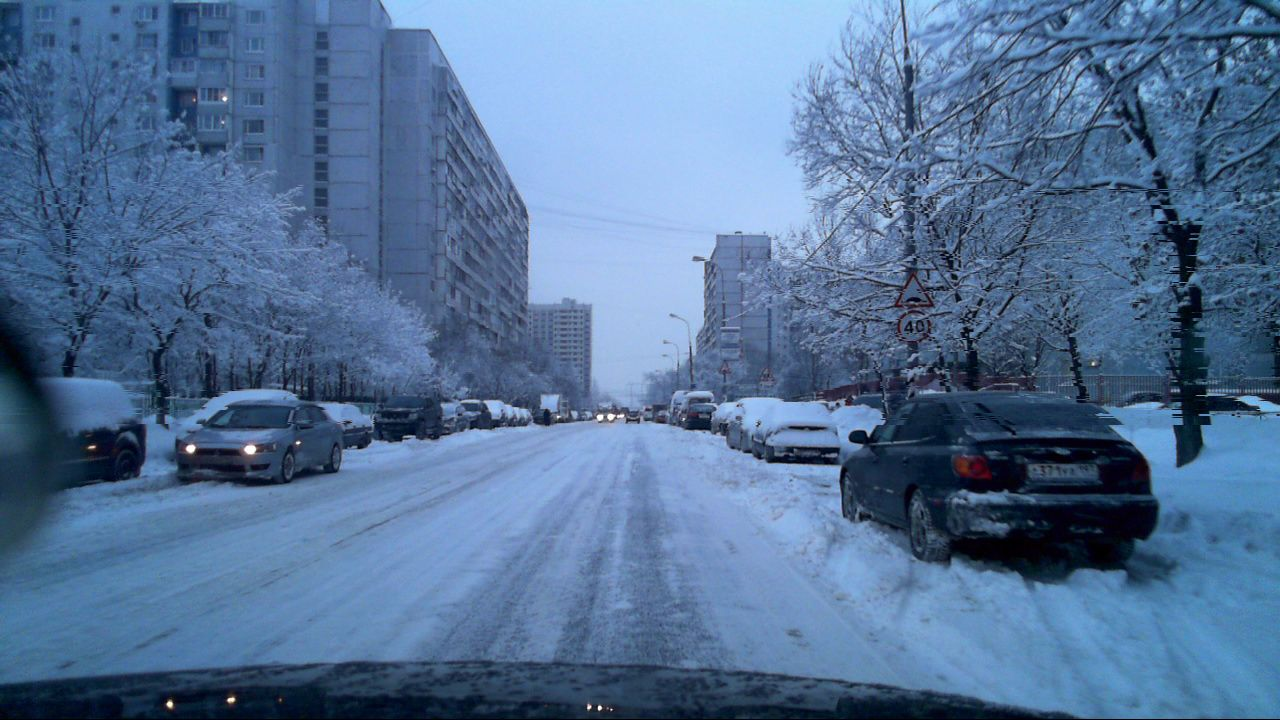speed_warning_40: (898, 309, 933, 344)
